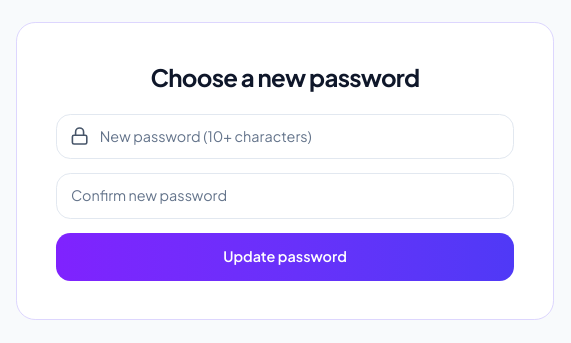
Test case: account pages › reset-password confirms with the token
Type "correct horse battery" into the password field with id "reset-password-input" at (285, 136), box [56, 114, 514, 159]
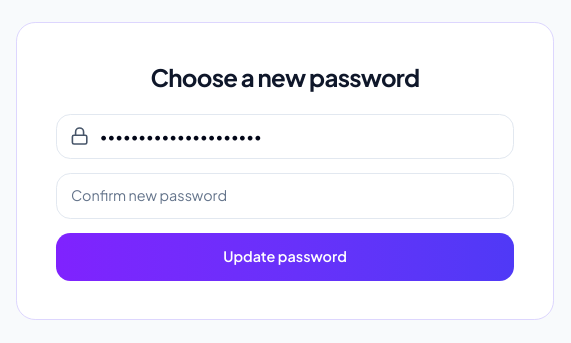
Type "correct horse battery" into the password field with id "reset-confirm-input" at (285, 196), box [56, 173, 514, 219]
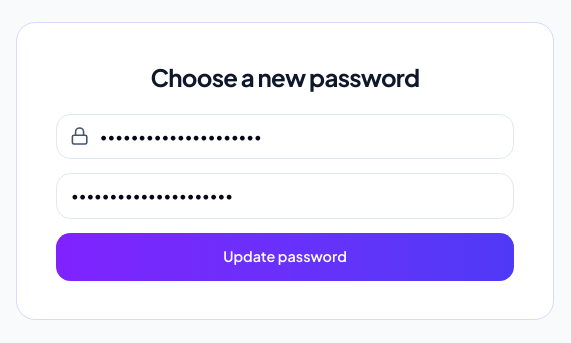
Submit the form with id "reset-password-form", box [56, 114, 514, 281]
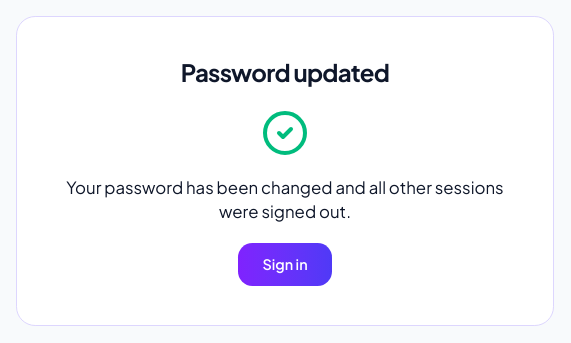
Now the text "Your password has been changed and all other sessions were signed out." is shown, box [56, 176, 514, 224]
